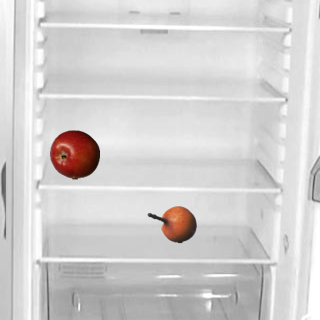Apple Braeburn: (49, 129, 99, 179)
Granadilla: (146, 199, 196, 249)
